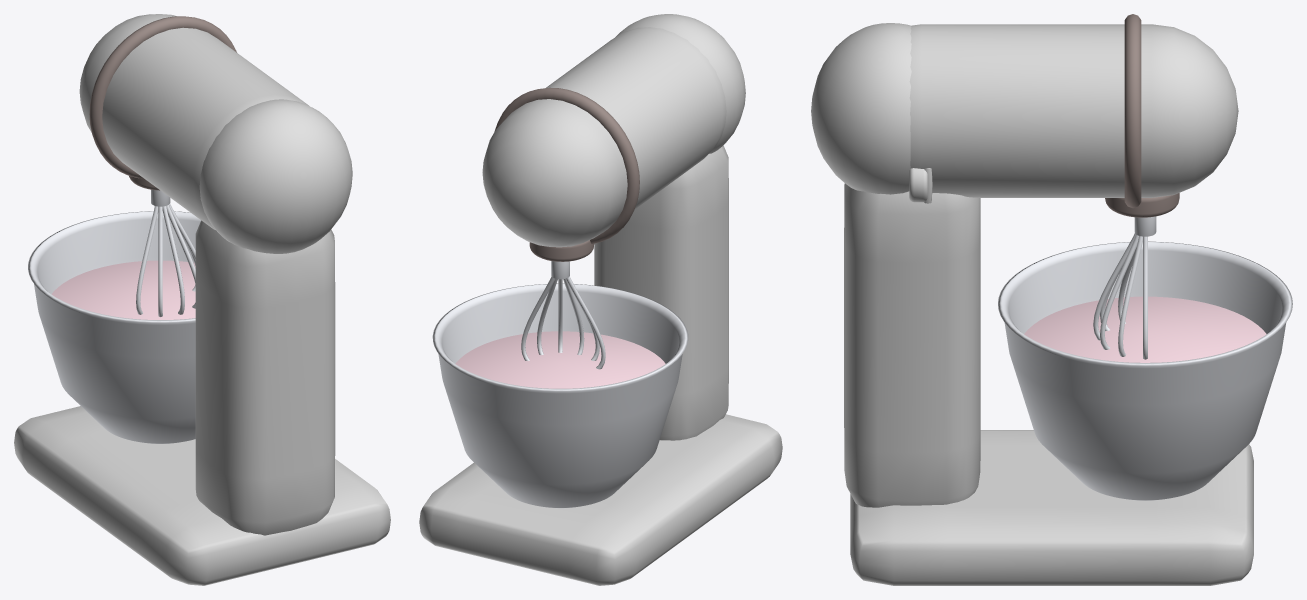
The model's file is CakeMixer.glb.
The picture shows the model from 3 angles, left to right: view 1: azimuth 30°, elevation 25°; view 2: azimuth 150°, elevation 25°; view 3: azimuth 270°, elevation 25°; orthographic projection. The views are drawn at different scales.
Parts seen in each view (by area): view 1: Body, Bowl, Batter, Trim, Whisk; view 2: Body, Bowl, Batter, Trim, Whisk; view 3: Body, Bowl, Batter, Trim, Whisk.
Boxes of the visible parts, bbox=[...] form: Body: bbox=[14, 14, 390, 585]; Bowl: bbox=[28, 211, 200, 443]; Batter: bbox=[51, 260, 195, 319]; Trim: bbox=[89, 16, 236, 190]; Whisk: bbox=[136, 189, 195, 316]; Body: bbox=[419, 14, 782, 585]; Bowl: bbox=[432, 283, 688, 508]; Batter: bbox=[455, 331, 665, 388]; Trim: bbox=[494, 87, 639, 261]; Whisk: bbox=[521, 261, 605, 369]; Body: bbox=[811, 23, 1253, 585]; Bowl: bbox=[998, 241, 1292, 500]; Batter: bbox=[1024, 296, 1266, 362]; Trim: bbox=[1105, 14, 1179, 217]; Whisk: bbox=[1093, 216, 1156, 359].
Bounding box in the file's own units: 9.5 × 18.33 × 15.52.
